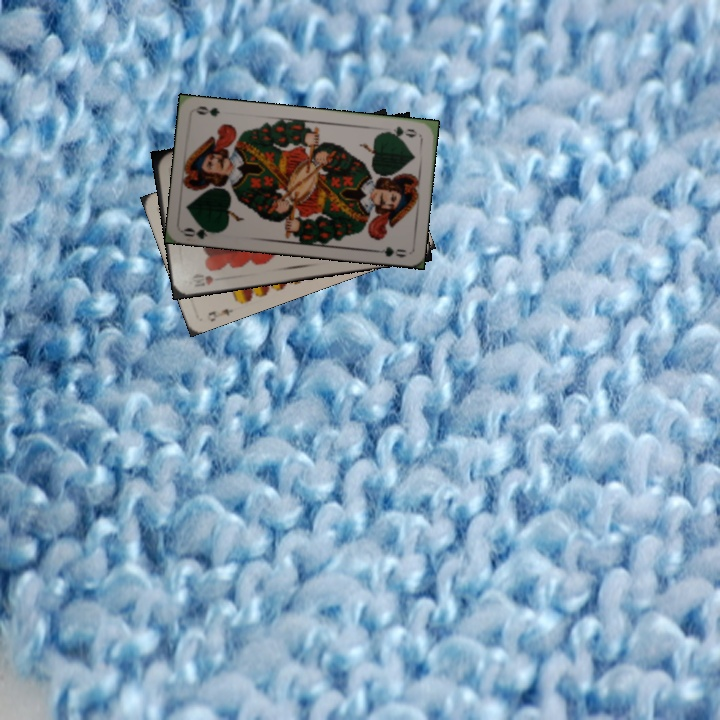E9: (204, 304, 236, 324)
GO: (180, 221, 221, 241), (380, 122, 420, 140)
H10: (187, 270, 216, 289)
